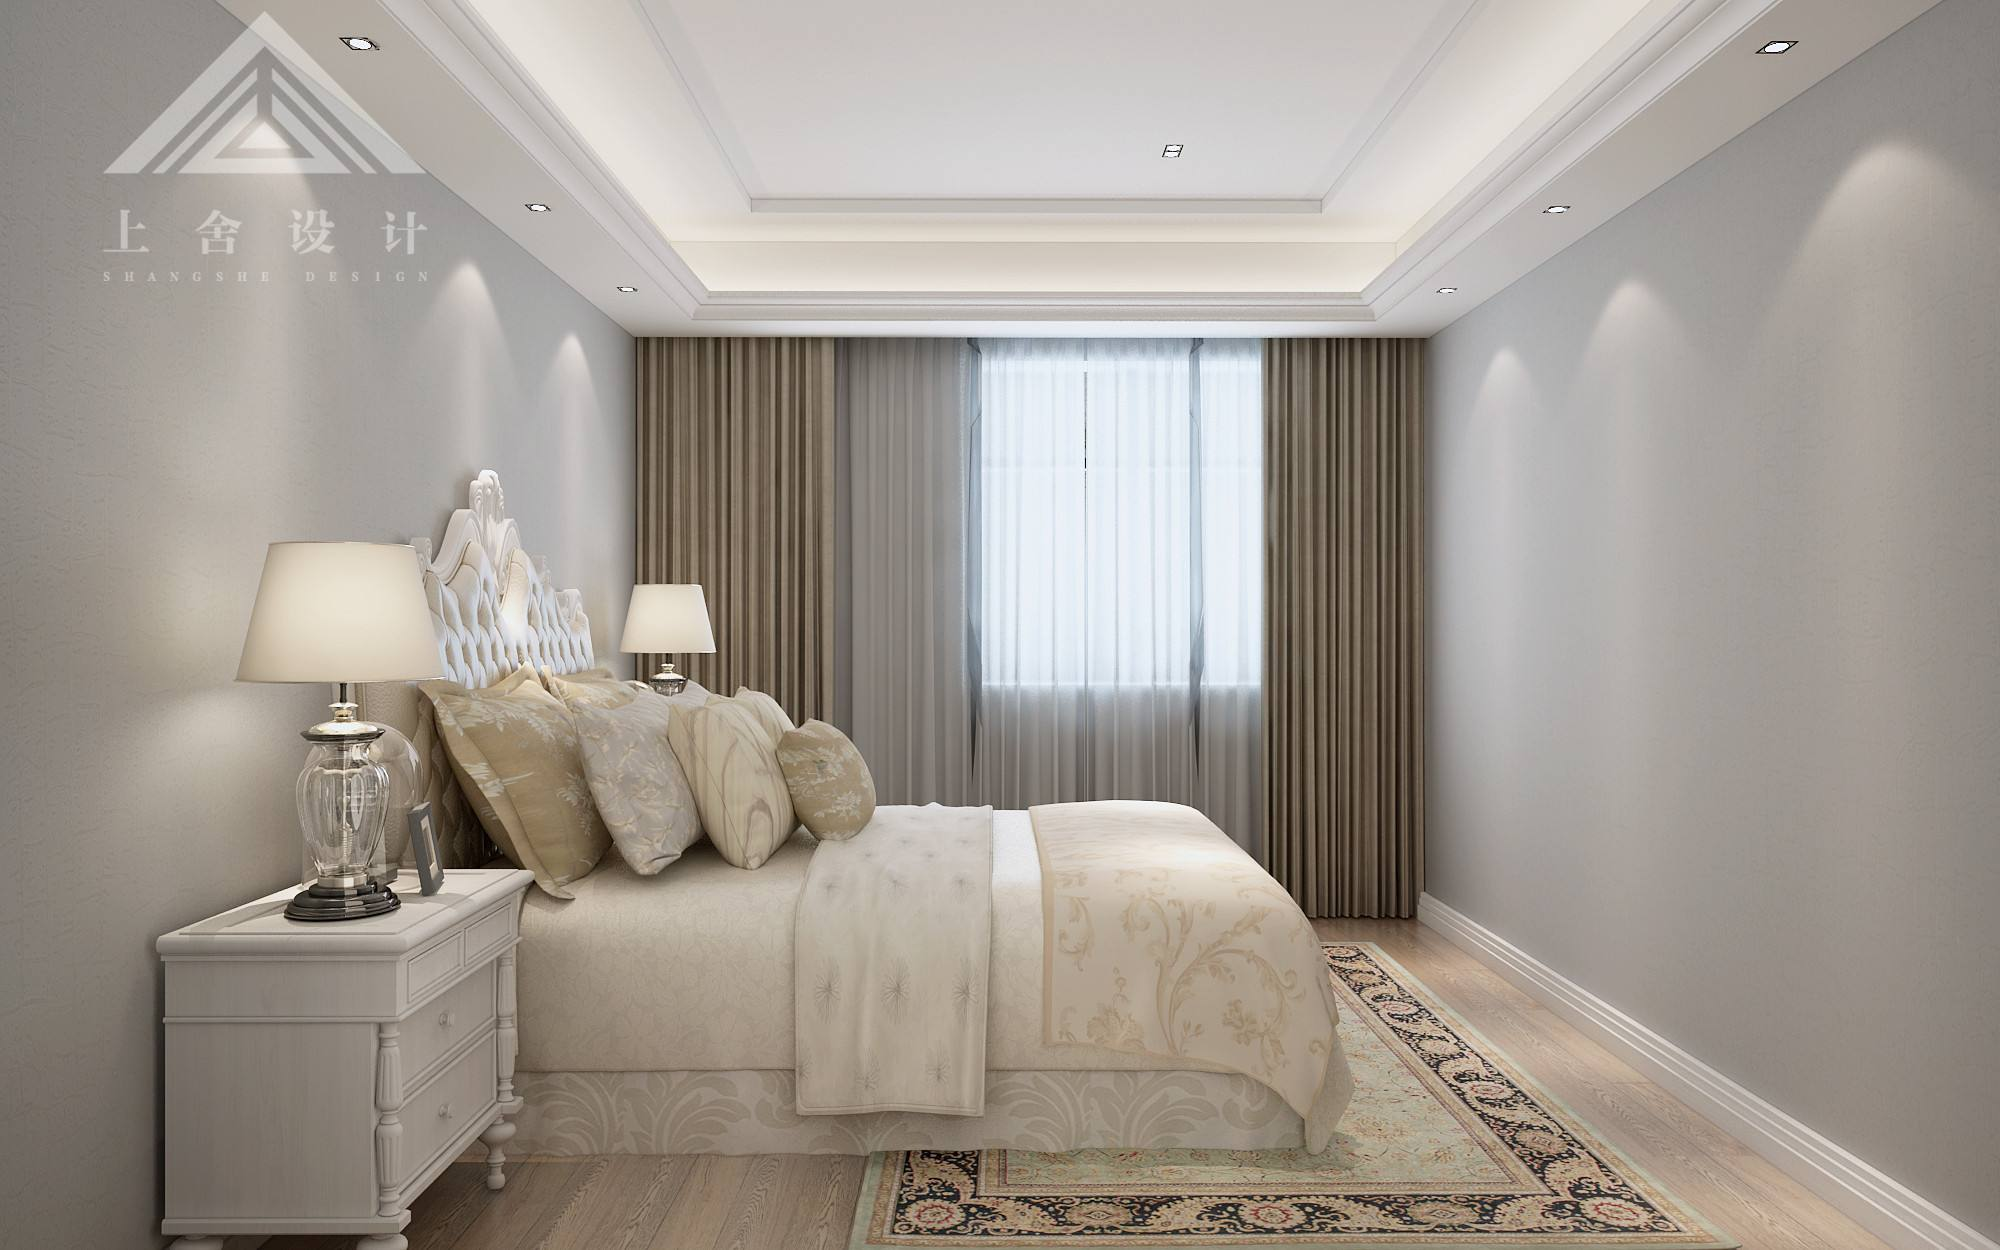床: (513, 783, 1346, 1164)
枕头: (420, 677, 890, 868)
灯: (230, 544, 441, 929), (621, 580, 717, 690), (337, 30, 387, 59), (1153, 132, 1191, 170), (518, 194, 562, 225), (1433, 278, 1463, 312), (1757, 37, 1801, 60), (1542, 203, 1575, 223), (611, 284, 647, 301)
